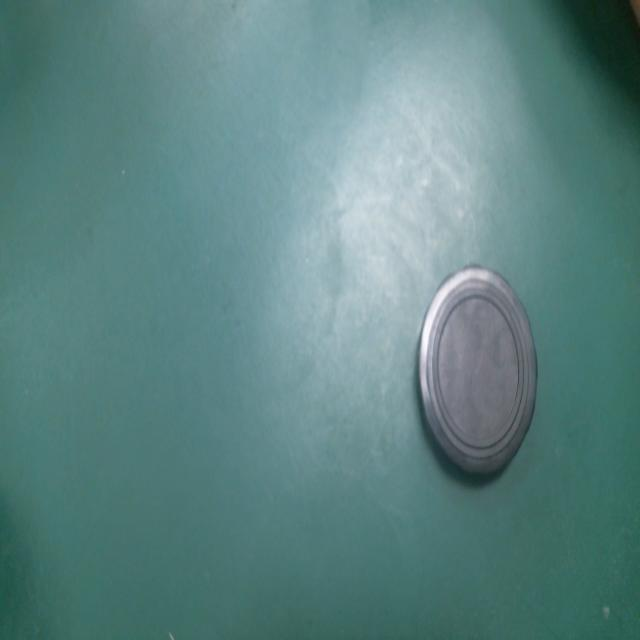cover: (413, 251, 544, 494)
